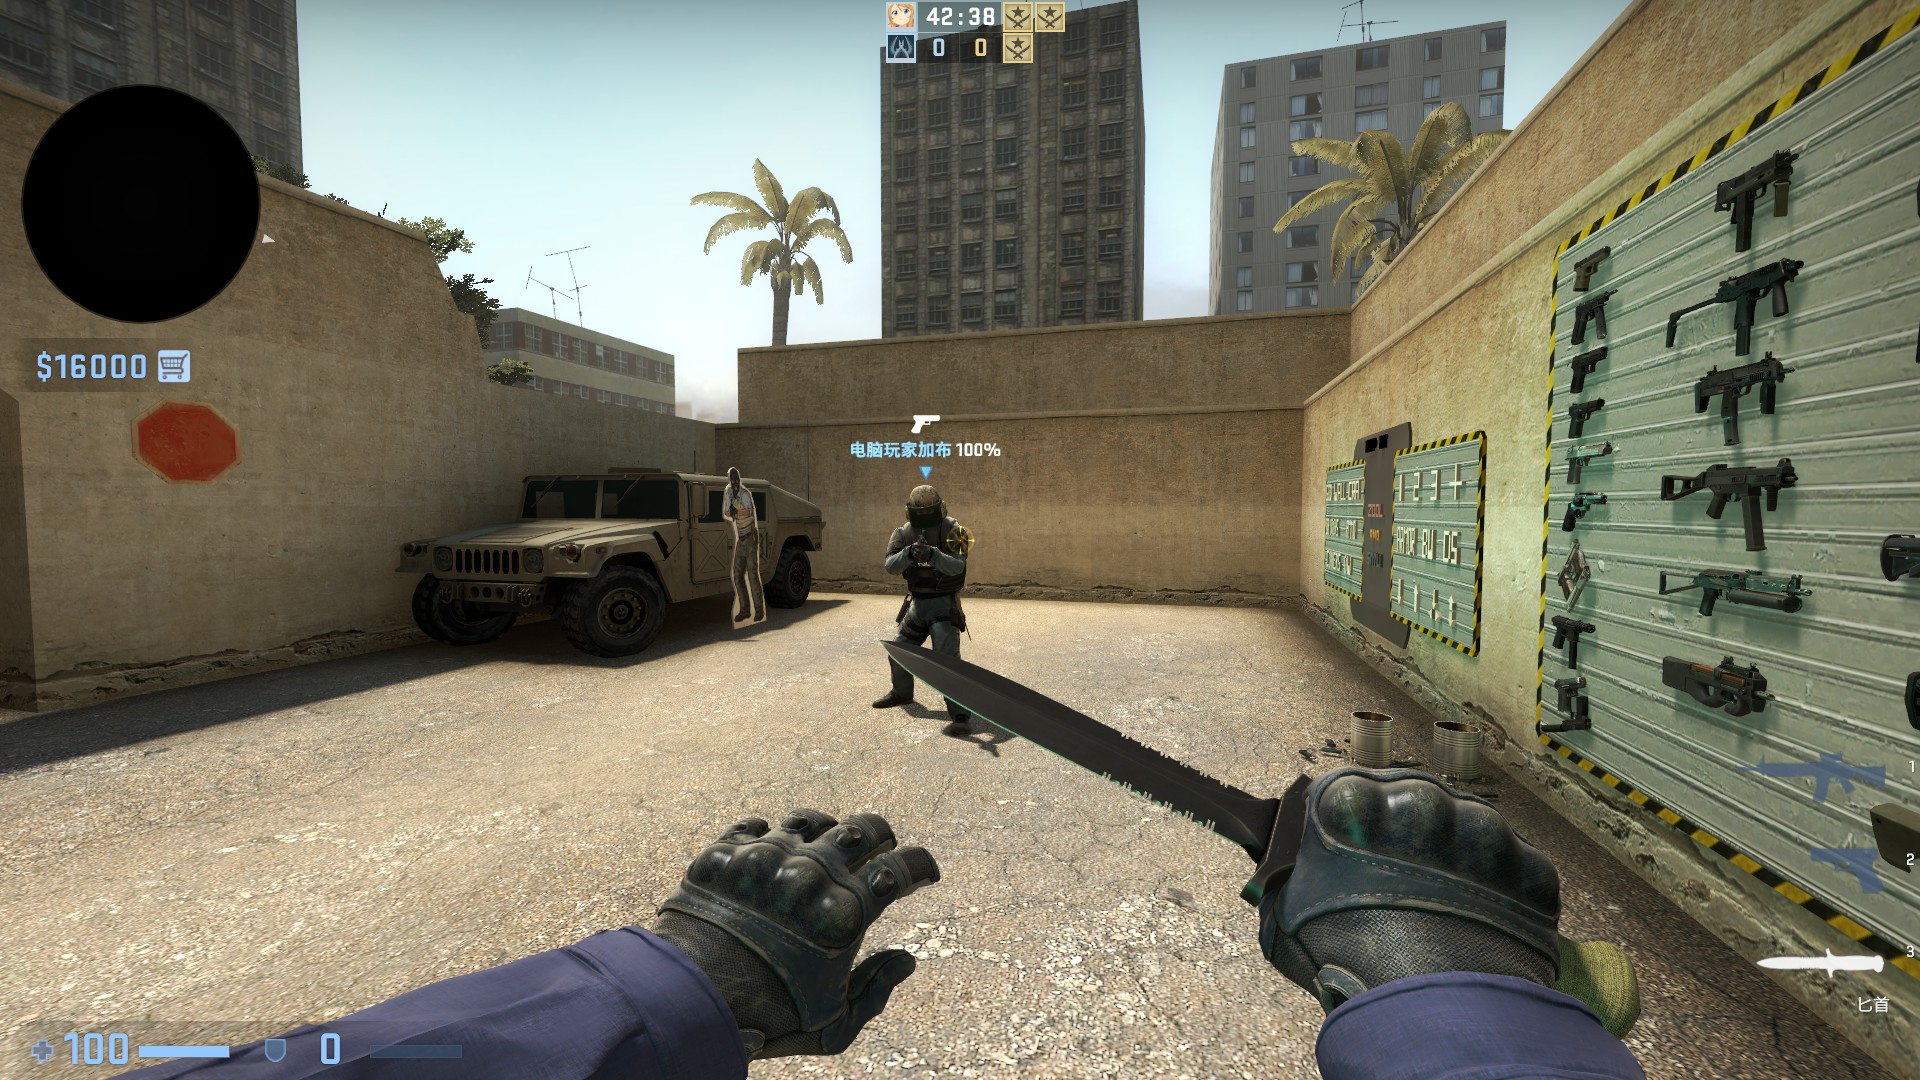head: (901, 482, 951, 538), (727, 466, 743, 496)
